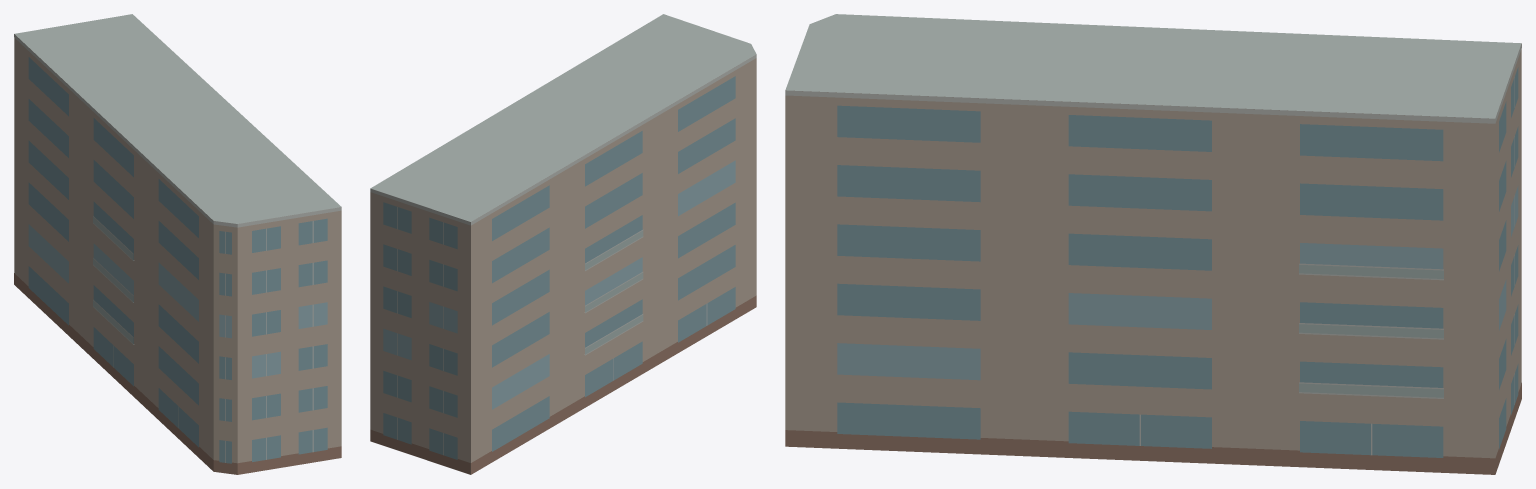
The model's file is survey-upis-32567440.glb.
3 renders of one model, left to right at view 1: azimuth 30°, elevation 25°; view 2: azimuth 150°, elevation 25°; view 3: azimuth 270°, elevation 25°, orthographic. The views are drawn at different scales.
Parts seen in each view (by area): view 1: survey-upis-32567440.tmp; view 2: survey-upis-32567440.tmp; view 3: survey-upis-32567440.tmp.
Part boxes in pixels (box(x1,y1,x2,y2)): survey-upis-32567440.tmp: box(14, 14, 341, 474); survey-upis-32567440.tmp: box(370, 14, 756, 474); survey-upis-32567440.tmp: box(785, 14, 1521, 474).
Size of the model in its own units: 10.79 by 17.1 by 32.05.
